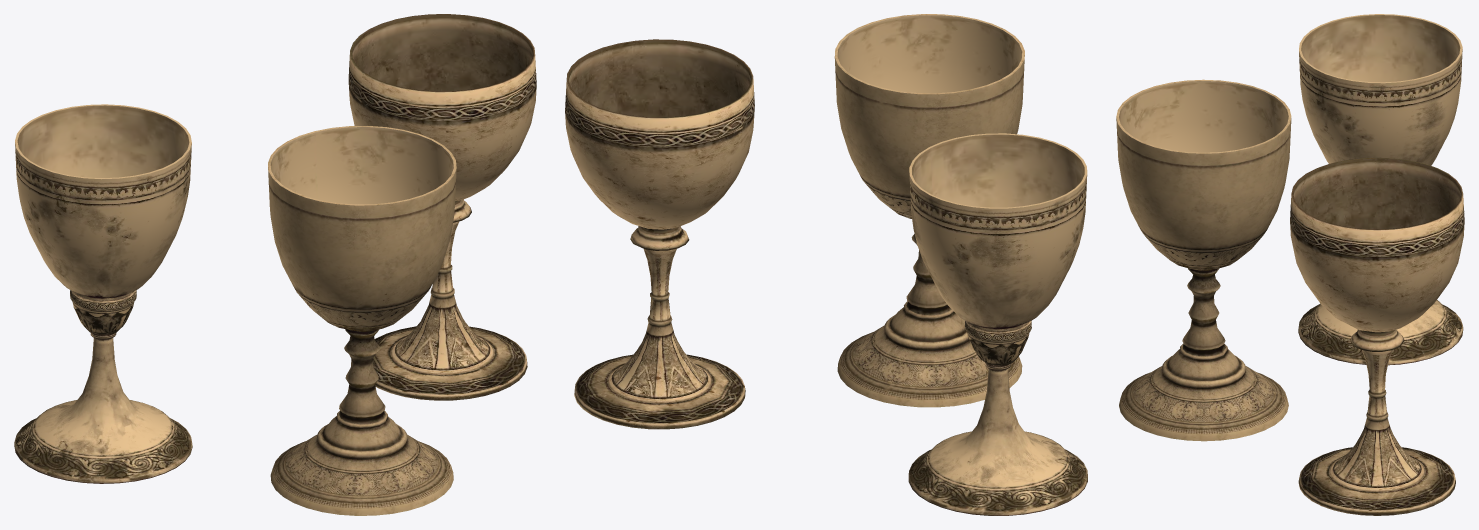
The model's file is brass_goblets.glb.
3 views of the same model, side by side, from view 1: azimuth 30°, elevation 25°; view 2: azimuth 150°, elevation 25°; view 3: azimuth 270°, elevation 25° (orthographic). The views are drawn at different scales.
Parts seen in each view (by area): view 1: brass_goblet_01, brass_goblet_02, brass_goblet_03; view 2: brass_goblet_02, brass_goblet_03, brass_goblet_01; view 3: brass_goblet_01, brass_goblet_03, brass_goblet_02.
Part boxes in pixels (x1,y1,x2,y2): brass_goblet_01: (268, 126, 456, 515); brass_goblet_02: (14, 104, 192, 483); brass_goblet_03: (348, 14, 536, 400); brass_goblet_02: (908, 133, 1087, 515); brass_goblet_03: (565, 39, 754, 429); brass_goblet_01: (834, 14, 1024, 407); brass_goblet_01: (1116, 79, 1291, 441); brass_goblet_03: (1290, 157, 1464, 515); brass_goblet_02: (1298, 14, 1463, 365).
Bounding box in the file's own units: 0.4534 × 0.2734 × 0.2976.
3 materials, 3 textured.
